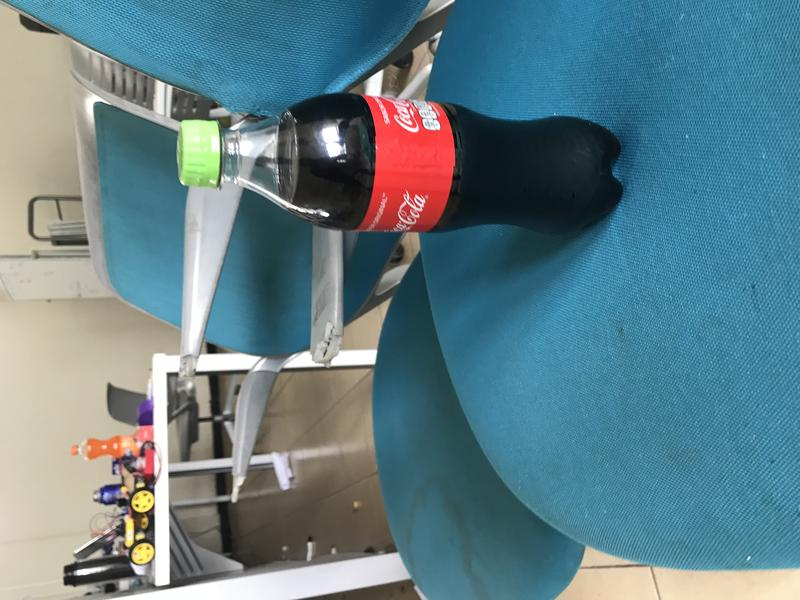coca_cola: (177, 94, 623, 234)
